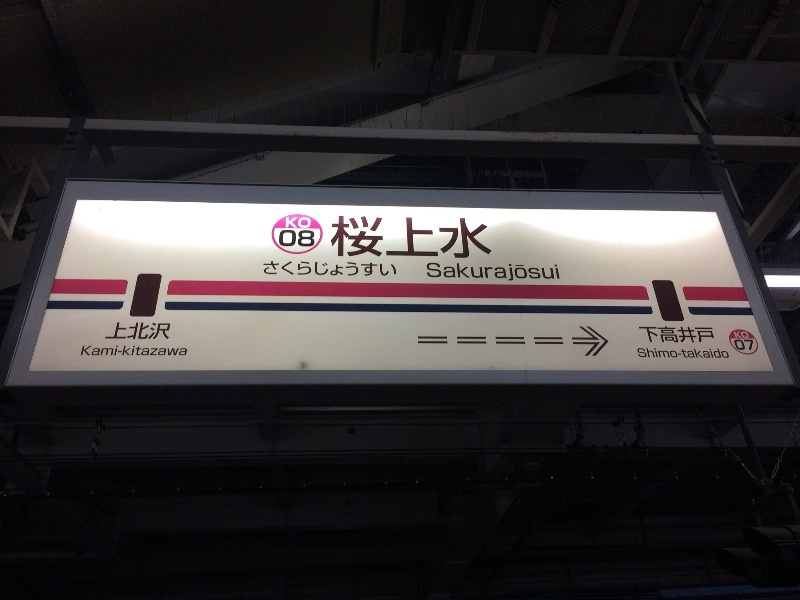text: (337, 217, 352, 258), (353, 217, 368, 258), (369, 217, 384, 258), (385, 217, 400, 258), (401, 217, 416, 258), (417, 217, 432, 258), (433, 217, 448, 258), (449, 217, 464, 258), (465, 217, 480, 258), (481, 217, 492, 258), (433, 264, 448, 283), (449, 264, 464, 283), (465, 264, 480, 283), (481, 264, 496, 283), (497, 264, 512, 283), (513, 264, 528, 283), (529, 264, 544, 283), (545, 264, 560, 283), (113, 323, 128, 340), (129, 323, 144, 340), (145, 323, 160, 340), (289, 231, 304, 247), (641, 327, 656, 343), (657, 327, 672, 343), (673, 327, 688, 343), (689, 327, 704, 343), (273, 262, 288, 276), (289, 262, 304, 276), (305, 262, 320, 276), (321, 262, 336, 276), (337, 262, 352, 276), (353, 262, 368, 276), (369, 262, 384, 276), (737, 340, 753, 351), (705, 327, 716, 343), (385, 262, 397, 276), (305, 231, 315, 247), (161, 323, 170, 340), (289, 218, 304, 228), (97, 346, 112, 356), (113, 346, 128, 356), (129, 346, 144, 356), (145, 346, 160, 356), (161, 346, 176, 356), (641, 349, 656, 358), (657, 349, 672, 358), (673, 349, 688, 358), (689, 349, 704, 358), (705, 349, 720, 358), (83, 346, 96, 356), (280, 231, 288, 247), (333, 217, 336, 258), (264, 262, 272, 276), (177, 346, 187, 356), (427, 264, 432, 283), (737, 332, 749, 339), (721, 349, 729, 358), (108, 323, 112, 340), (305, 218, 311, 228), (734, 340, 736, 351), (286, 218, 288, 228), (638, 349, 640, 358), (639, 327, 640, 343), (734, 332, 736, 339)
